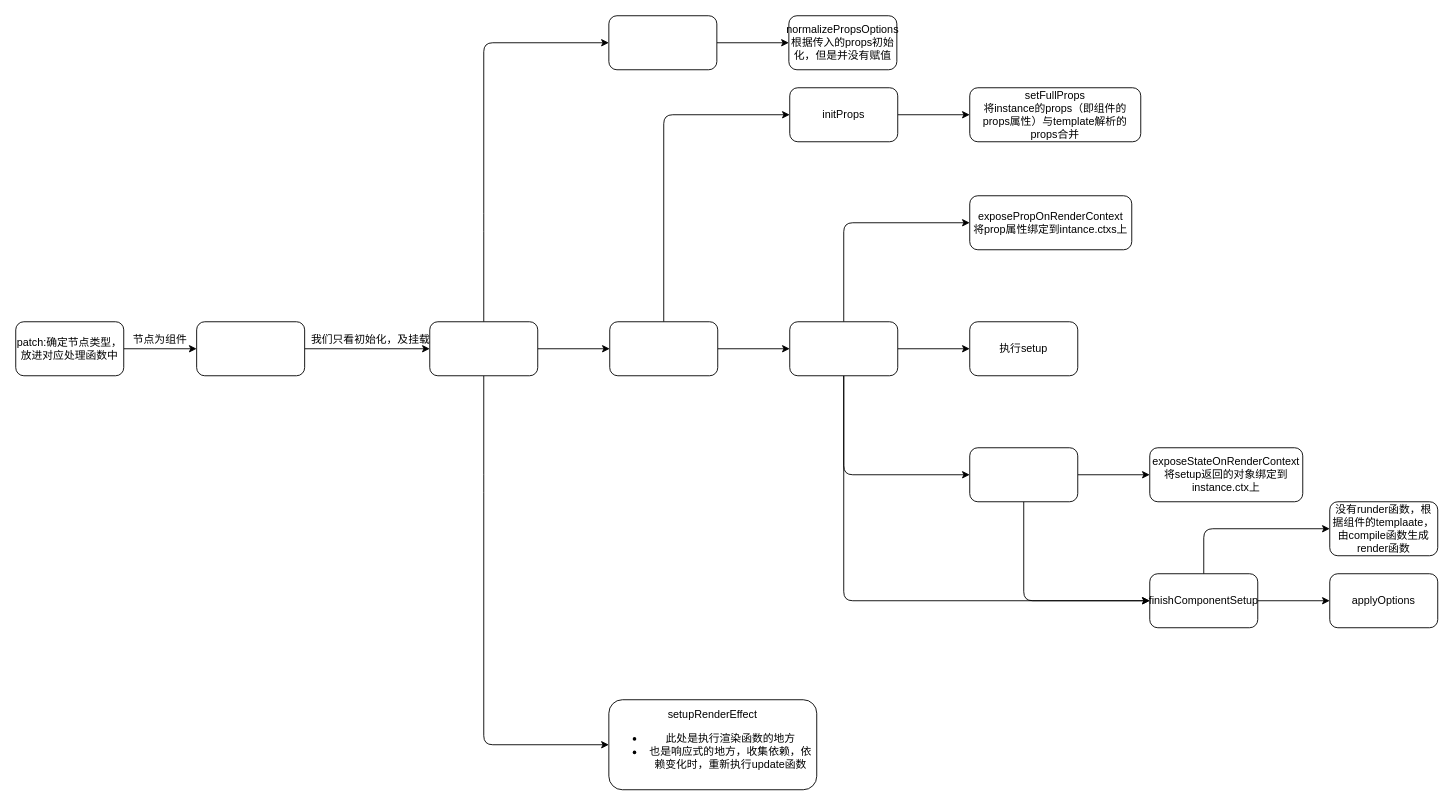
This 1454x806 diagram has some shape labels left out. Each missing label, with the box of its shape:
createComponentInstance 创建组件实例: (608, 15, 717, 70)
handleSetupResult: (969, 447, 1078, 502)
mountComponent:: (429, 321, 538, 376)
processComponent 判断是挂载还是更新: (196, 321, 305, 376)
setupComponent: (609, 321, 718, 376)
setupStatefulComponent: (789, 321, 898, 376)
